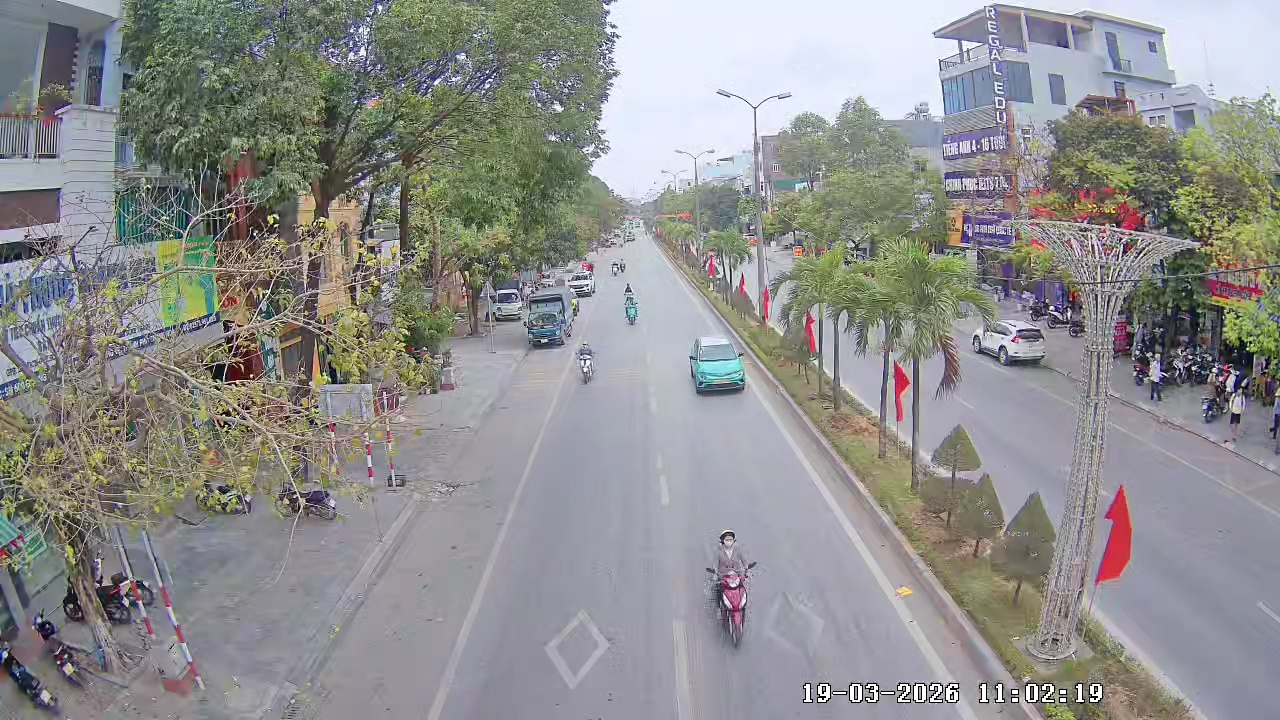car: (688, 332, 749, 396), (971, 322, 1049, 367), (568, 265, 596, 299)
motorbike: (702, 527, 760, 650), (289, 486, 342, 522), (575, 341, 598, 386), (623, 285, 640, 324)
truck: (523, 289, 573, 349)
